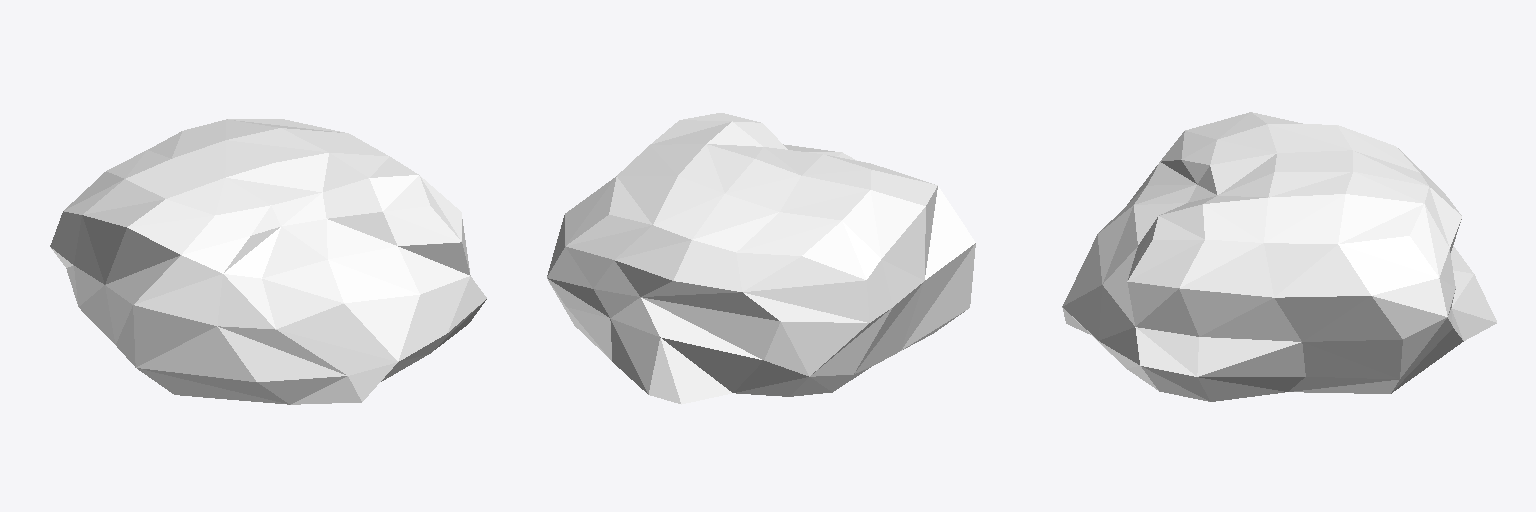
Rendered from rock1.obj.
3 renders of one model, left to right at view 1: azimuth 30°, elevation 25°; view 2: azimuth 150°, elevation 25°; view 3: azimuth 270°, elevation 25°, orthographic.
Parts seen in each view (by area): view 1: Object.1; view 2: Object.1; view 3: Object.1.
Part boxes in pixels (left/top/right/bottom): Object.1: left=50, top=119, right=486, bottom=404; Object.1: left=547, top=113, right=975, bottom=404; Object.1: left=1062, top=112, right=1496, bottom=401.
Size of the model in its own units: 31.84 by 16.8 by 36.29.